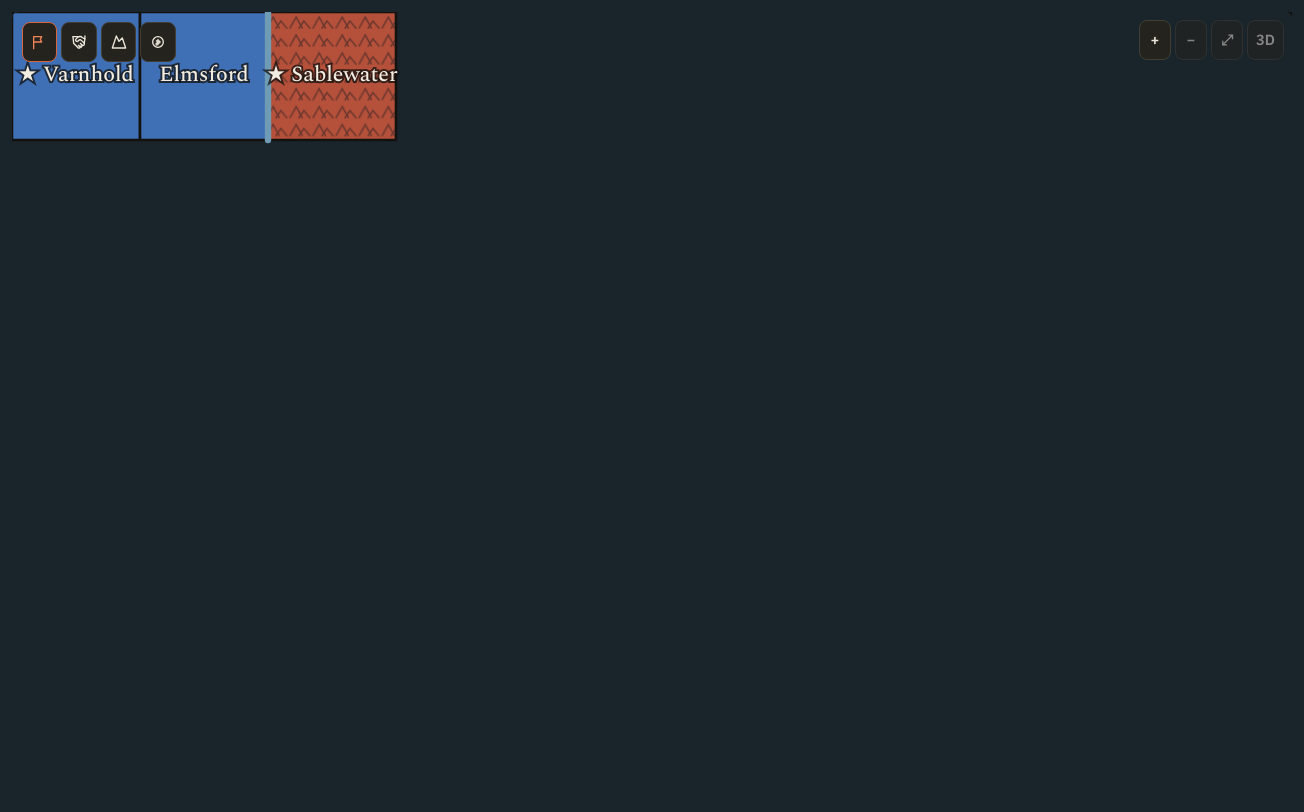
Test: Diplomatic perspective › names the reference nation, colours by its relations and resets to the viewer
Later steps or results of the test are not shown.
Click the button named "Diplomatic" at (79,42), box [61,22,97,62]
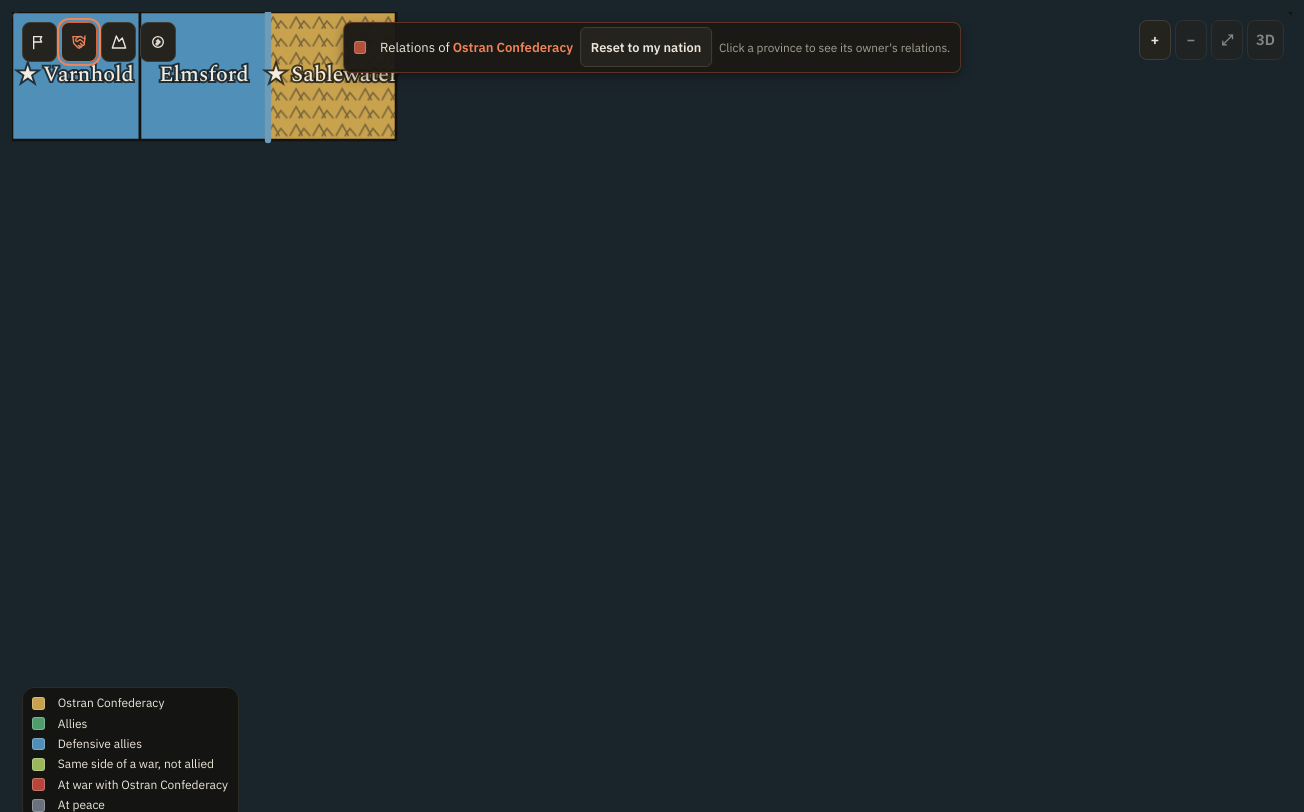
Expected: the message named "Diplomatic perspective" shows "Relations of Ostran Confederacy", [343,22,961,73]
Expected: the list item "At war with Ostran Confederacy" is shown, [32,776,228,794]
Expected: the list item "Defensive allies" is shown, [32,736,142,751]
